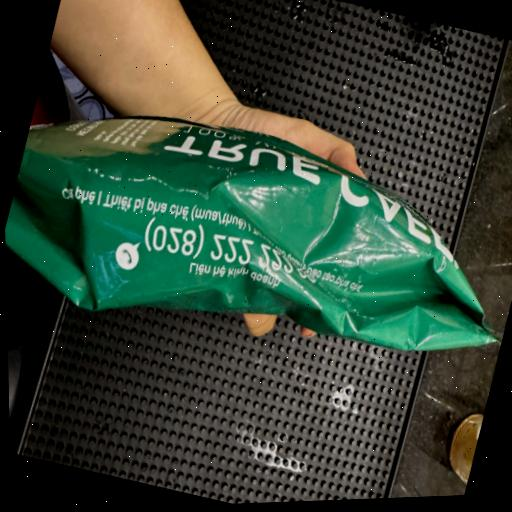cafe_xay: (5, 116, 494, 350), (5, 117, 495, 350)
